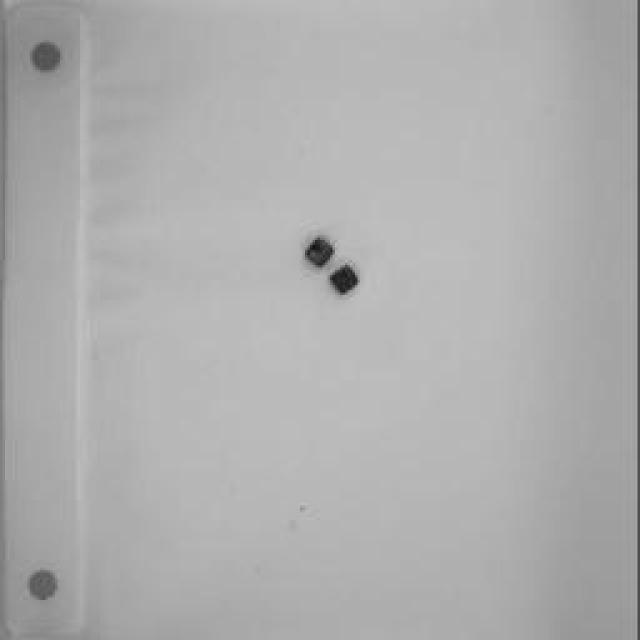dice_1: (304, 236, 334, 269)
dice_5: (329, 266, 361, 296)
